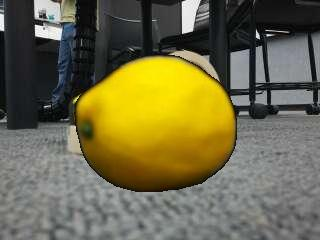lemon: (79, 58, 237, 192)
